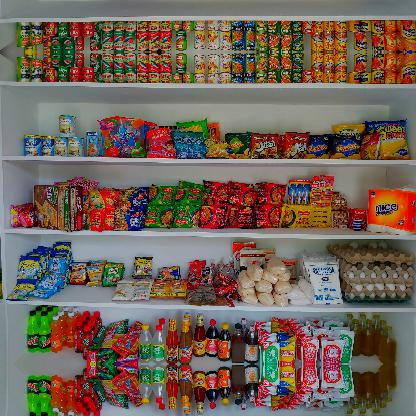Koko-Krunch: (34, 183, 84, 231)
